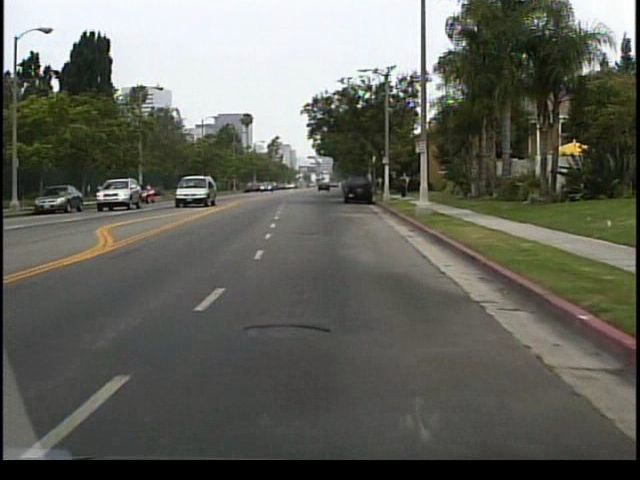person: (400, 169, 414, 199), (397, 175, 408, 199)
